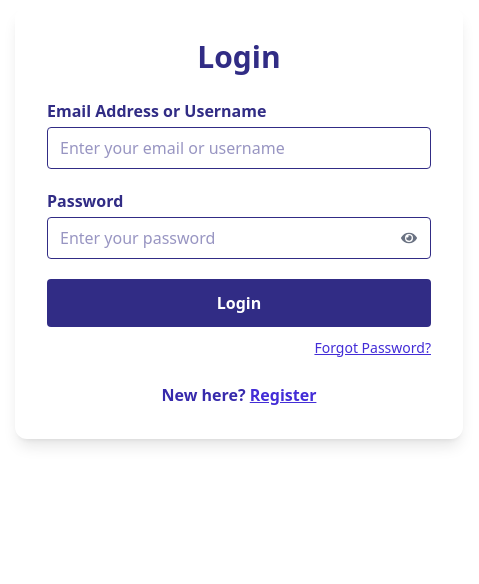
Test: password fields in the app › a revealed password is hidden again when you switch between Login and Register
Later steps or results of the test are not shown.
In the password field labelled "Password": (239, 238) [47,217,431,259], type "visible-now"
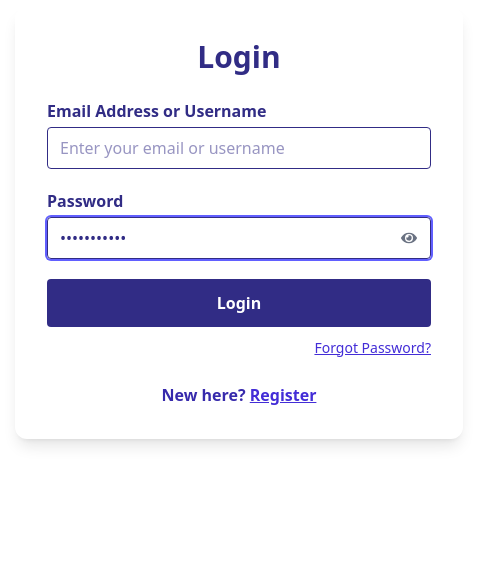
Click the button named "Show password": (409, 238) [387,217,431,259]
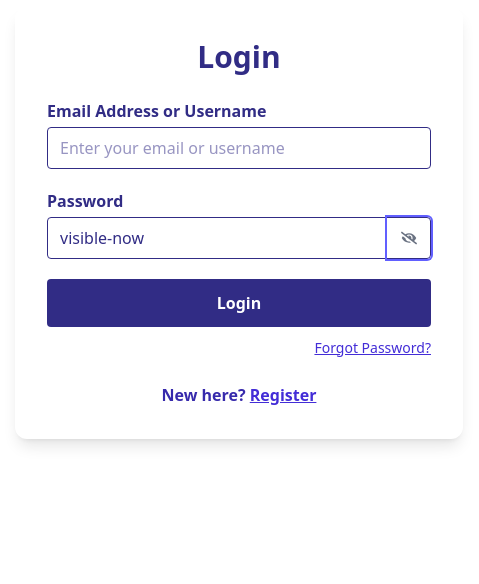
Expected: the field labelled "Password" shows its text, [47,217,431,259]
Click the button "Register": (283, 395) [250,383,316,407]
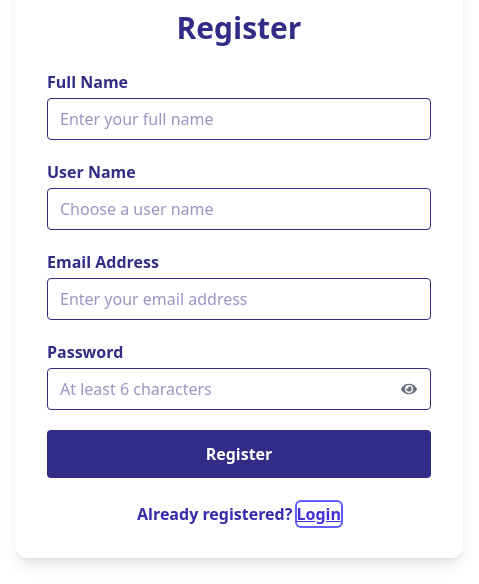
Expected: the password field labelled "Password" is empty, [47,368,431,410]
Expected: the button named "Show password" is shown, [387,368,431,410]
